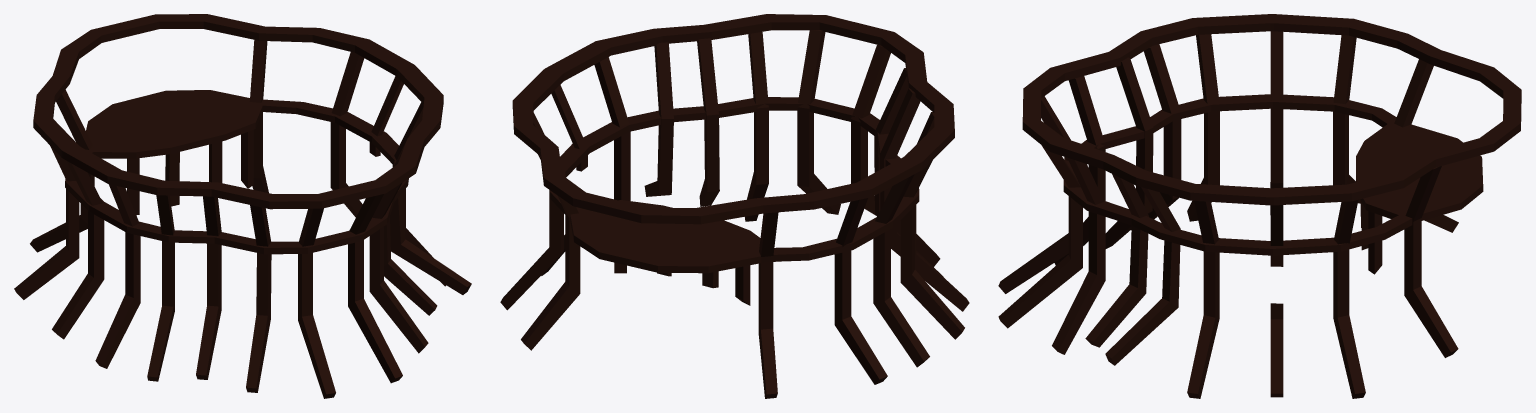
Rendered from Frame.fbx.
The picture shows the model from 3 angles, left to right: view 1: azimuth 30°, elevation 25°; view 2: azimuth 150°, elevation 25°; view 3: azimuth 270°, elevation 25°; orthographic projection. The views are drawn at different scales.
Visible parts, largest first — view 1: RoofBeam.002, RoofBeam.018, RoofBeam.001; view 2: RoofBeam.002, RoofBeam.018, RoofBeam.001; view 3: RoofBeam.002, RoofBeam.018, RoofBeam.001.
Boxes of the visible parts, x1=… form: RoofBeam.002: x1=14, y1=40, x2=471, y2=398; RoofBeam.018: x1=33, y1=14, x2=443, y2=209; RoofBeam.001: x1=65, y1=90, x2=408, y2=254; RoofBeam.002: x1=500, y1=30, x2=969, y2=398; RoofBeam.018: x1=512, y1=14, x2=954, y2=224; RoofBeam.001: x1=549, y1=97, x2=919, y2=273; RoofBeam.002: x1=998, y1=31, x2=1458, y2=398; RoofBeam.018: x1=1022, y1=14, x2=1521, y2=205; RoofBeam.001: x1=1063, y1=94, x2=1483, y2=255.
Size of the model in its own units: 4715 by 2371 by 5498.
